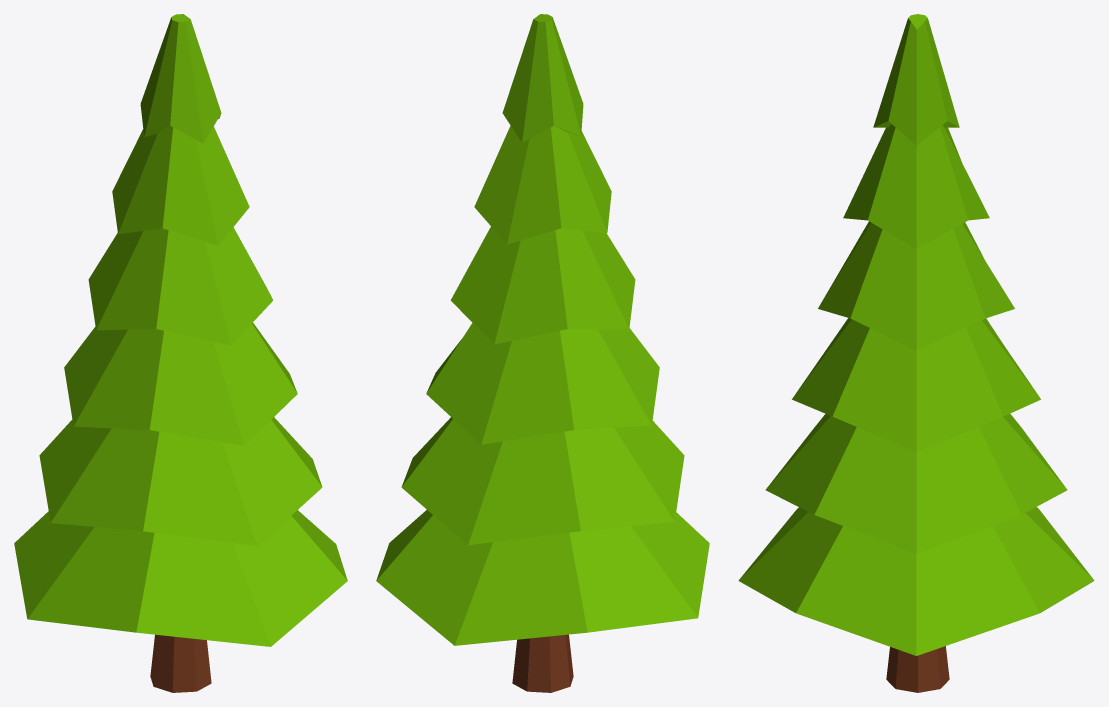
File: Arbol1 .fbx
The picture shows the model from 3 angles, left to right: view 1: azimuth 30°, elevation 25°; view 2: azimuth 150°, elevation 25°; view 3: azimuth 270°, elevation 25°; orthographic projection.
Parts seen in each view (by area): view 1: Arbol 1; view 2: Arbol 1; view 3: Arbol 1.
Boxes of the visible parts, left/top/right/bottom form: Arbol 1: left=14, top=14, right=347, bottom=692; Arbol 1: left=376, top=14, right=709, bottom=692; Arbol 1: left=738, top=14, right=1094, bottom=692.
Size of the model in its own units: 166 by 340 by 166.
